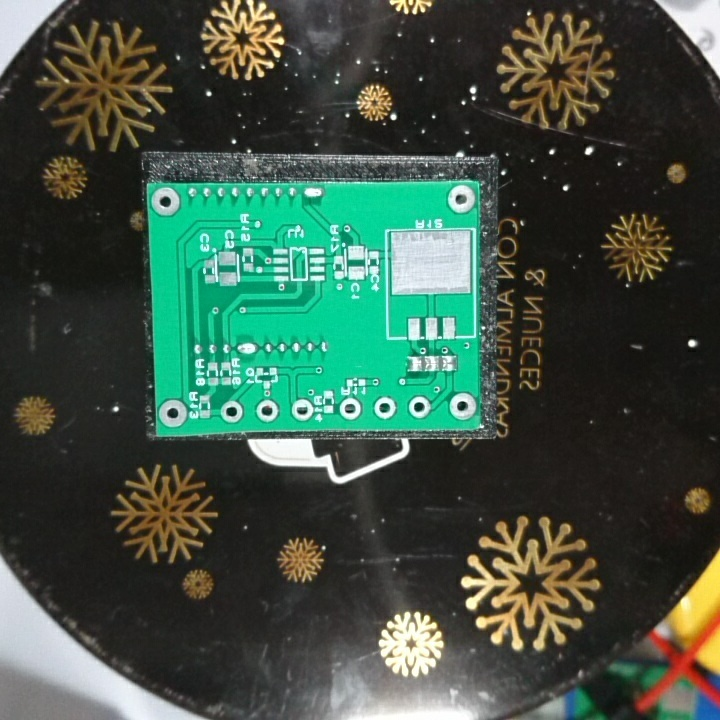F: (150, 185, 184, 222), (156, 398, 190, 429), (447, 389, 477, 423), (446, 183, 476, 216), (253, 396, 282, 424), (371, 394, 398, 423), (337, 396, 363, 424), (219, 399, 246, 425), (290, 397, 315, 422), (407, 394, 431, 420)
P: (235, 338, 261, 360), (301, 185, 327, 204)
